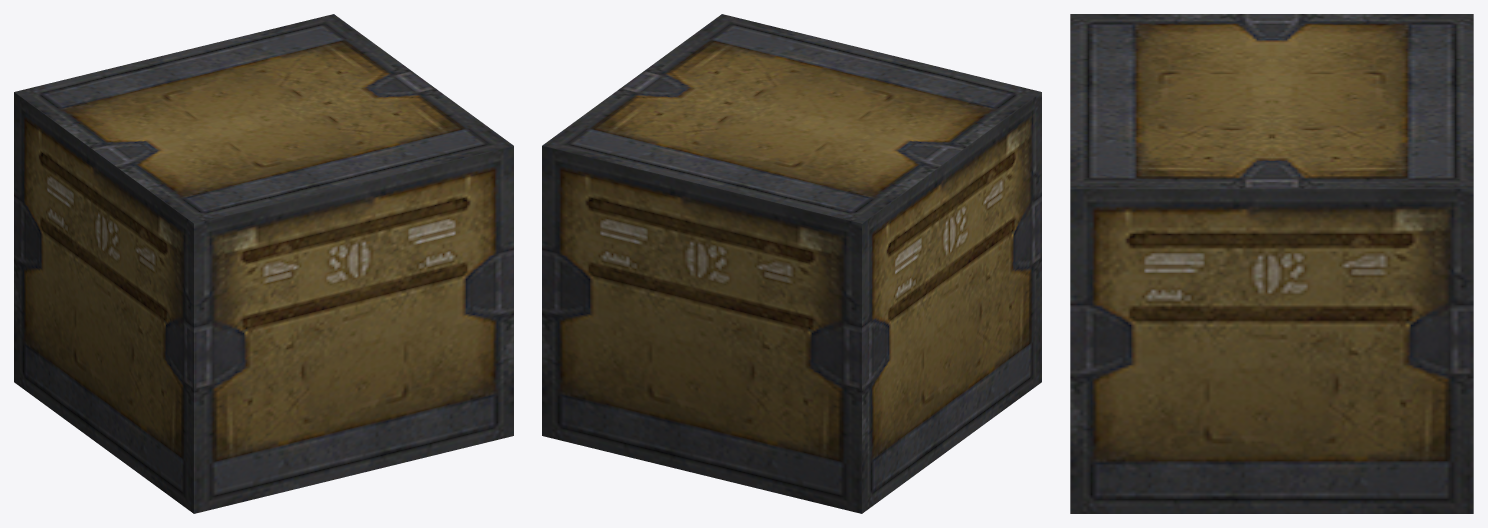
File: yw_huanghunbianjing_xiangzi01.FBX
3 renders of one model, left to right at view 1: azimuth 30°, elevation 25°; view 2: azimuth 150°, elevation 25°; view 3: azimuth 270°, elevation 25°, orthographic. The views are drawn at different scales.
Parts seen in each view (by area): view 1: yw_huanghunbianjing_xiangzi01; view 2: yw_huanghunbianjing_xiangzi01; view 3: yw_huanghunbianjing_xiangzi01.
Part boxes in pixels (x1,y1,x2,y2): yw_huanghunbianjing_xiangzi01: [14, 14, 513, 513]; yw_huanghunbianjing_xiangzi01: [542, 14, 1041, 513]; yw_huanghunbianjing_xiangzi01: [1070, 14, 1473, 513].
Bounding box in the file's own units: 86.82 × 75.3 × 84.59.
Materials: 1 (1 with a texture image).
